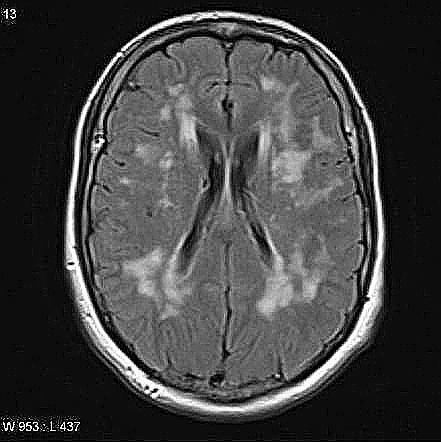Normal_Brain: (10, 14, 441, 442)
